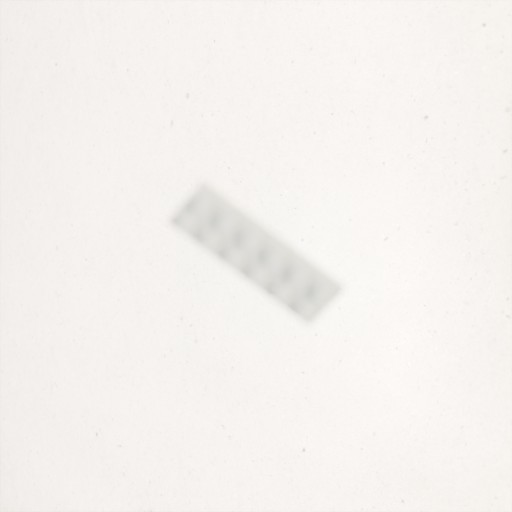lego: (166, 179, 347, 328)
